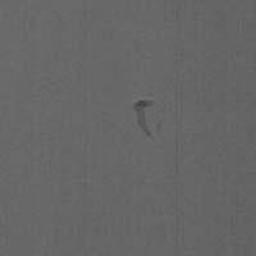Inclusion: (134, 99, 153, 136)
